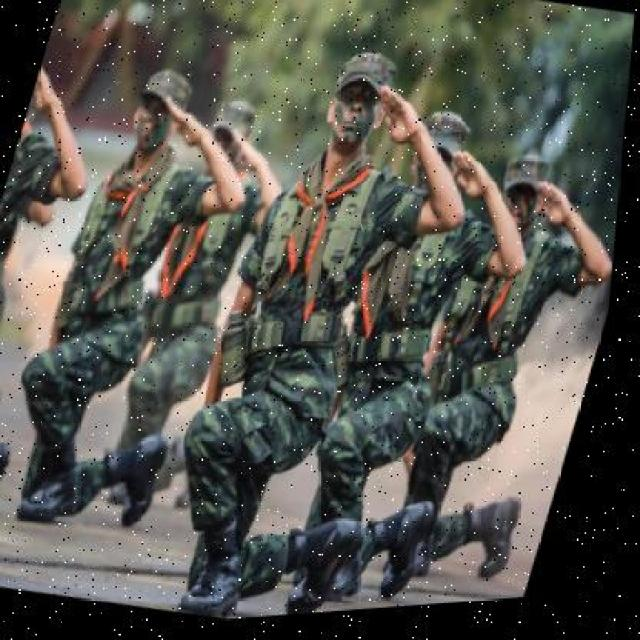MIL_Pax: (164, 51, 427, 615), (280, 102, 518, 608), (0, 61, 218, 520), (396, 159, 624, 573), (96, 84, 296, 539), (0, 20, 109, 542)
